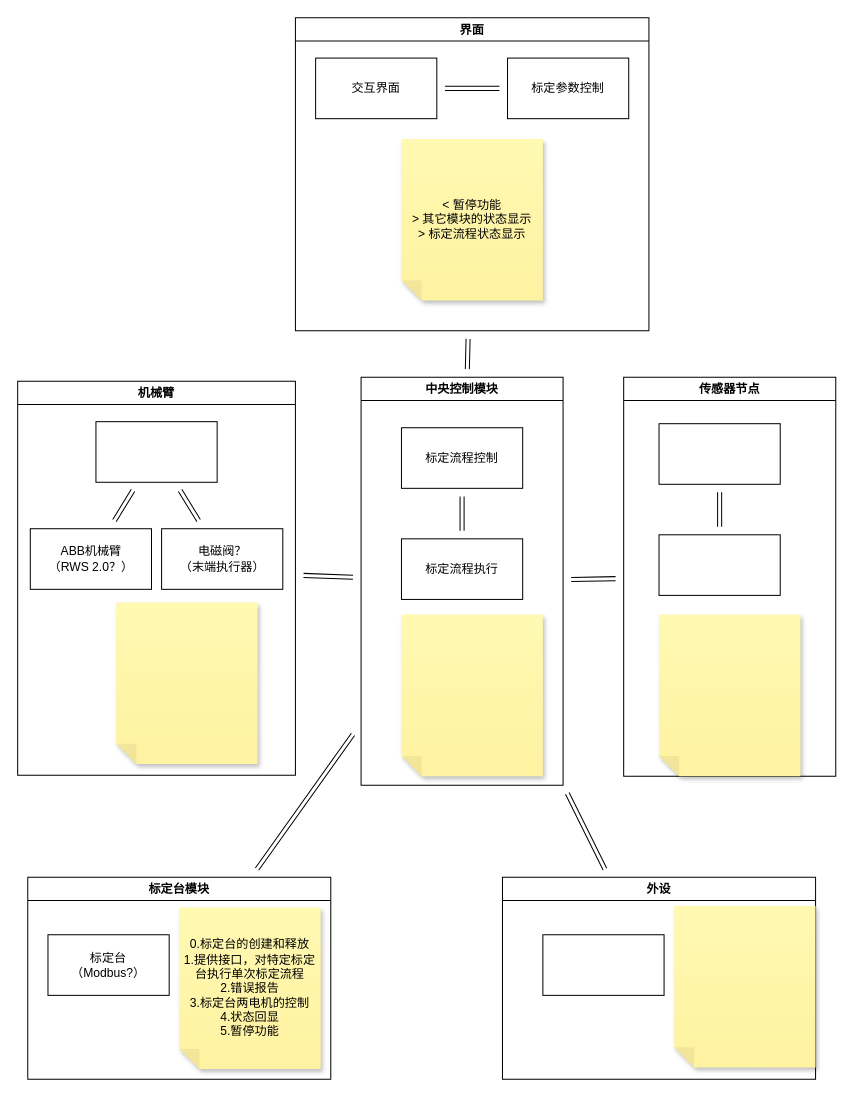
This 853x1097 diagram has some shape labels left out. The shapes that lost their labels are listed below. From the top down, each one's centre as x and y in pixels, then its label:
point 156,451: 机械臂控制
point 719,453: 传感器数据处理 （记录、计算、上传）
point 719,564: 传感器通信 (Modbus?)
point 187,684: 1.提供接口，参数化进行装卸砝码操作 2.设备状态回显 3.控制机械臂和末端执行器
point 472,696: 1.提供接口，参数化执行标定流程 2.各个标定流水线的独立暂停功能 3.保证机械臂的独占使用 4.回显状态
point 730,696: 1.提供接口，记录 固定时长的数据，缓存在内部 2.提供接口，处理数据并上传到服务器 3.回显状态
point 603,964: 其它外设 （安全光栅...）
point 745,987: > 外设控制 < 状态反馈
